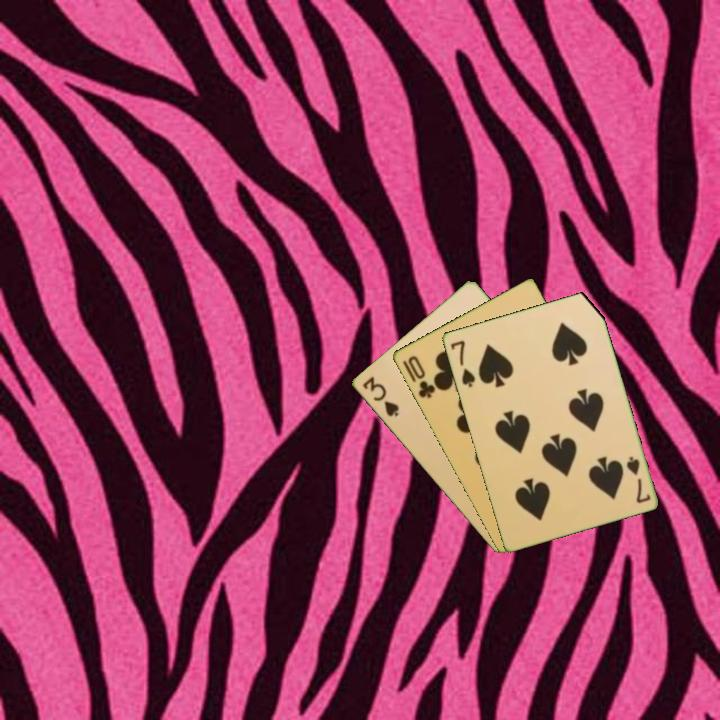10c: (404, 352, 438, 401)
3s: (359, 373, 402, 420)
7s: (447, 337, 478, 390), (622, 453, 653, 506)
